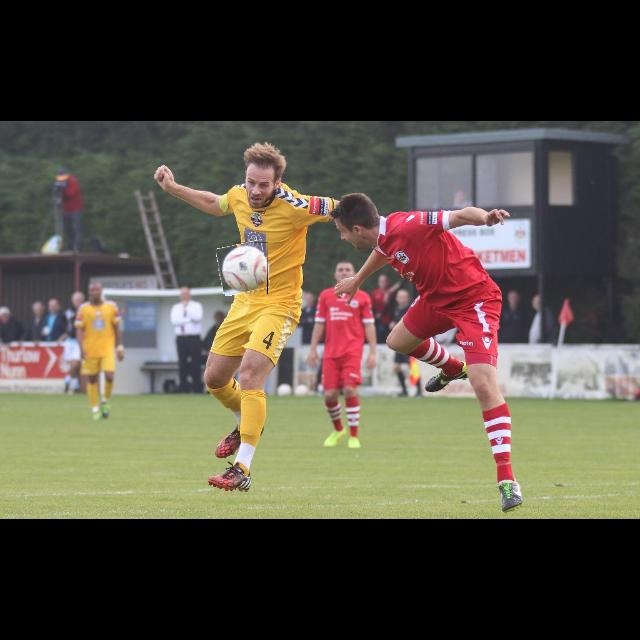Football: (218, 242, 268, 294)
